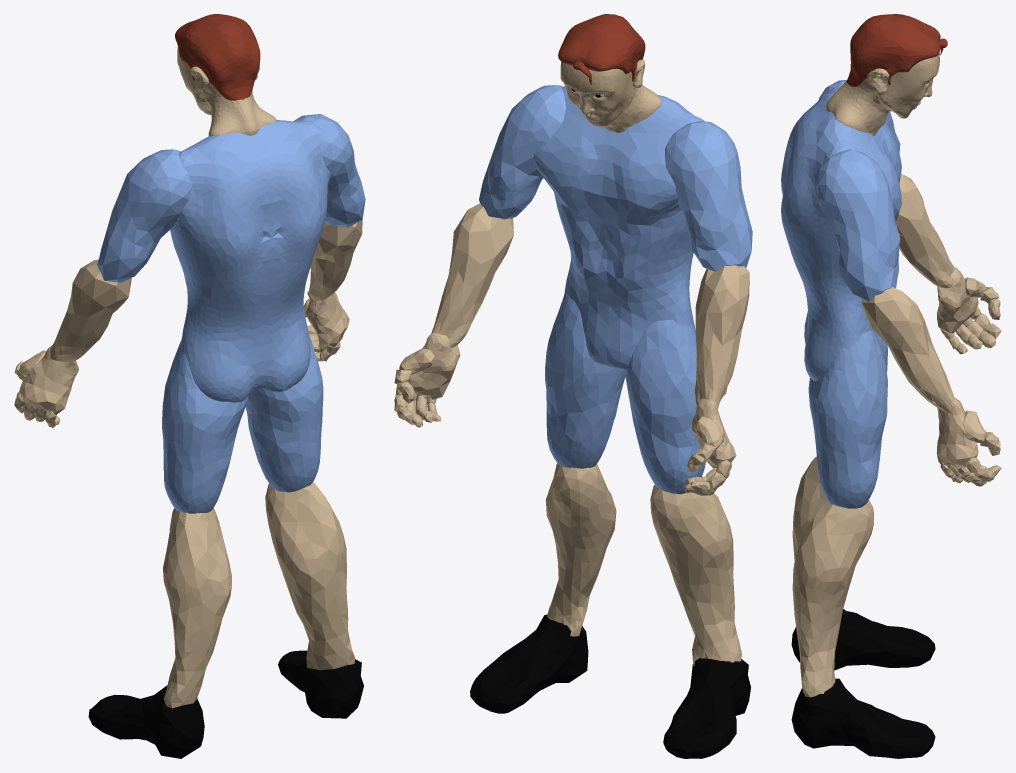
File: Rufus.fbx
3 views of the same model, side by side, from view 1: azimuth 30°, elevation 25°; view 2: azimuth 150°, elevation 25°; view 3: azimuth 270°, elevation 25° (orthographic). The views are drawn at different scales.
Visible parts, largest first — view 1: polySurface1; view 2: polySurface1; view 3: polySurface1.
Part boxes in pixels (x1,y1,x2,y2): polySurface1: (14, 14, 365, 758); polySurface1: (394, 14, 752, 758); polySurface1: (781, 14, 1001, 758).
Size of the model in its own units: 4.1 by 8.31 by 2.41.
